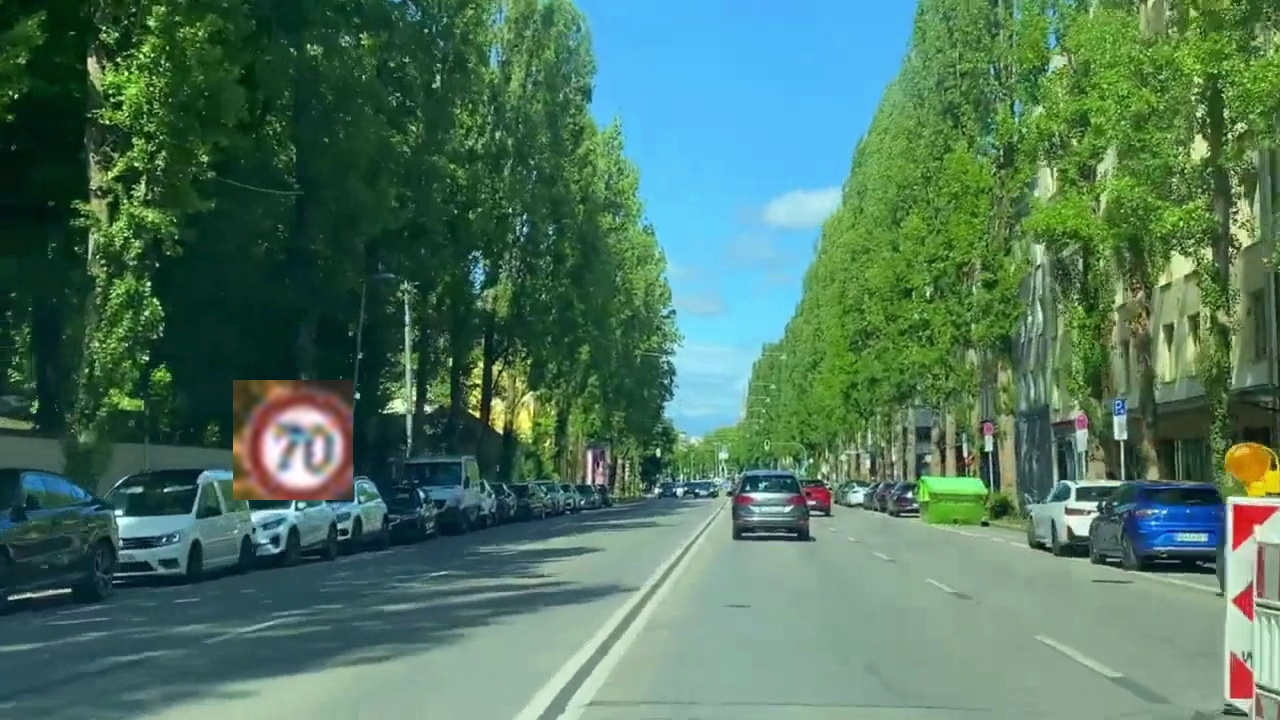Speed 70: (233, 380, 353, 500)
